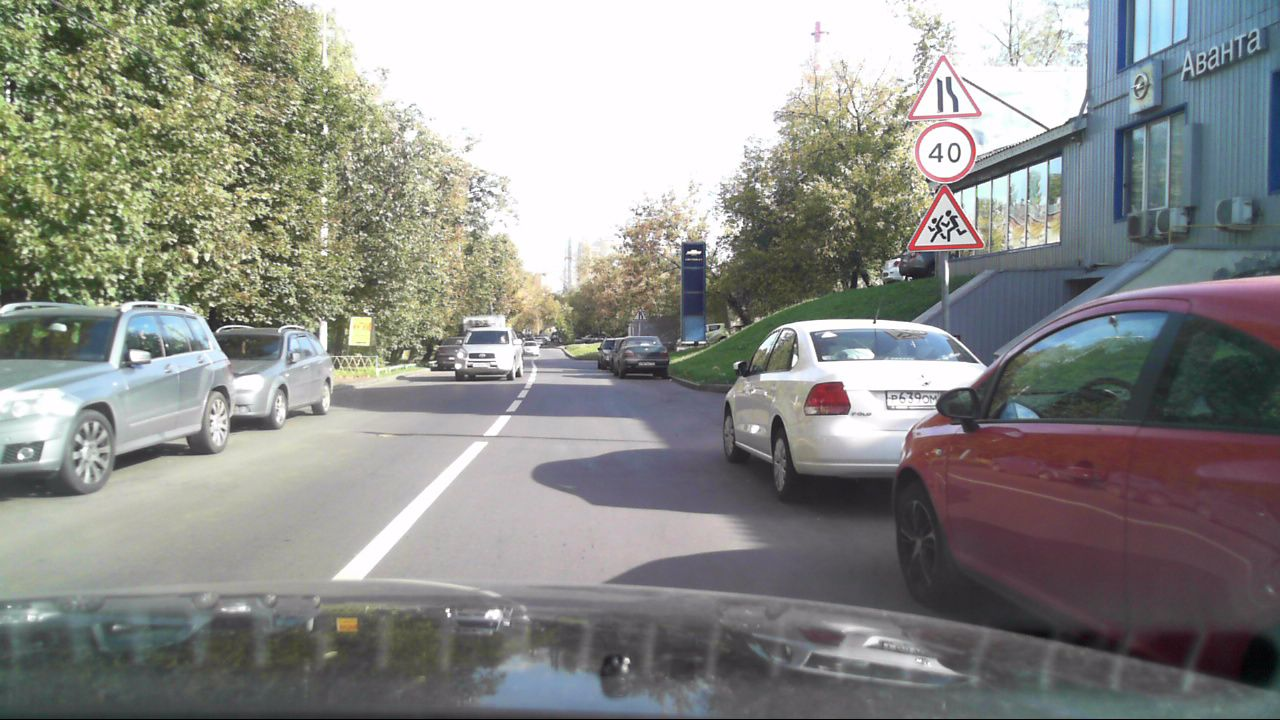speed_warning_40: (913, 115, 979, 186)
